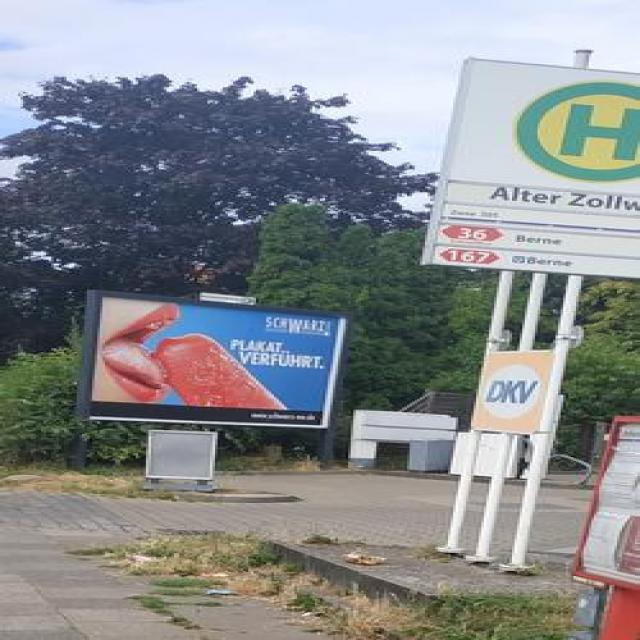Werbetafel frei: (87, 288, 343, 435)
